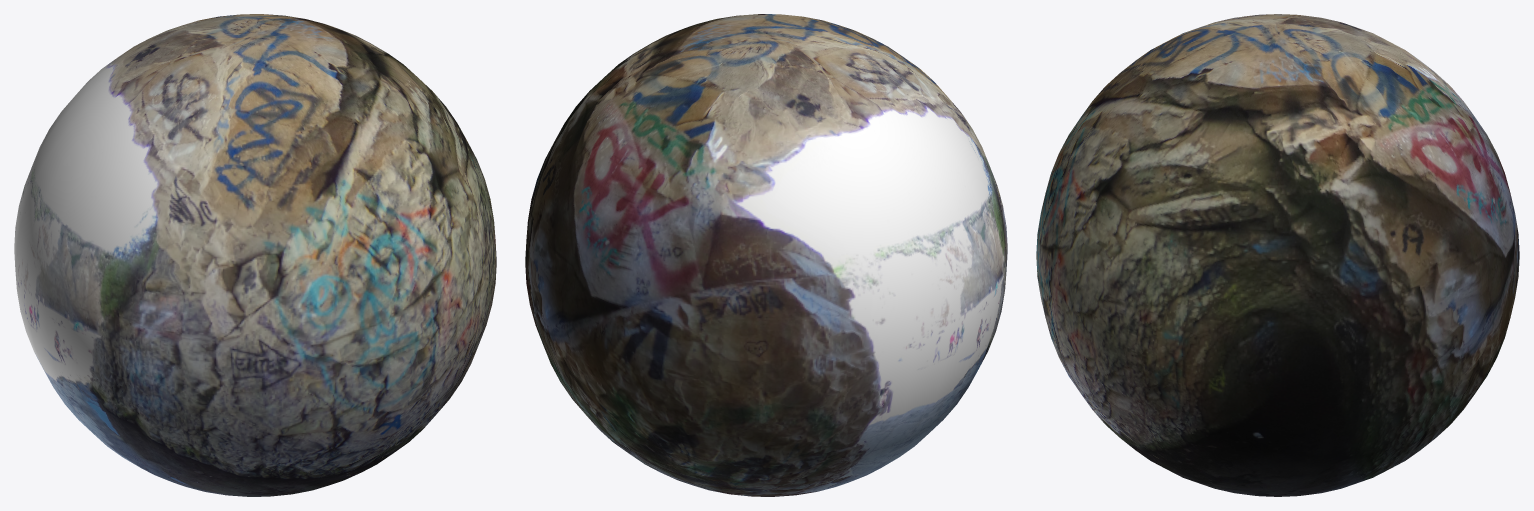
The model's file is hdri_cave_entrance_v1.glb.
3 views of the same model, side by side, from view 1: azimuth 30°, elevation 25°; view 2: azimuth 150°, elevation 25°; view 3: azimuth 270°, elevation 25° (orthographic).
Visible parts, largest first — view 1: skydome_cave_v1; view 2: skydome_cave_v1; view 3: skydome_cave_v1.
Part boxes in pixels (x1,y1,x2,y2): skydome_cave_v1: (14, 14, 496, 496); skydome_cave_v1: (525, 14, 1007, 496); skydome_cave_v1: (1036, 14, 1519, 496).
Bounding box in the file's own units: 105 × 105 × 105.
1 material, 1 textured.
